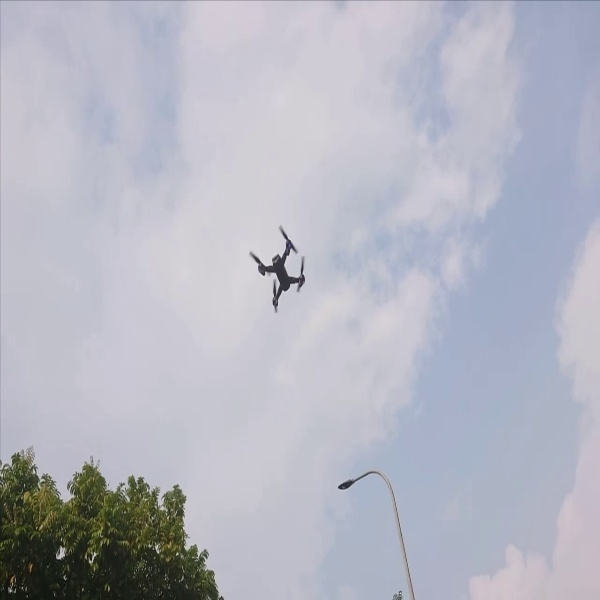drone: (246, 228, 314, 311)
